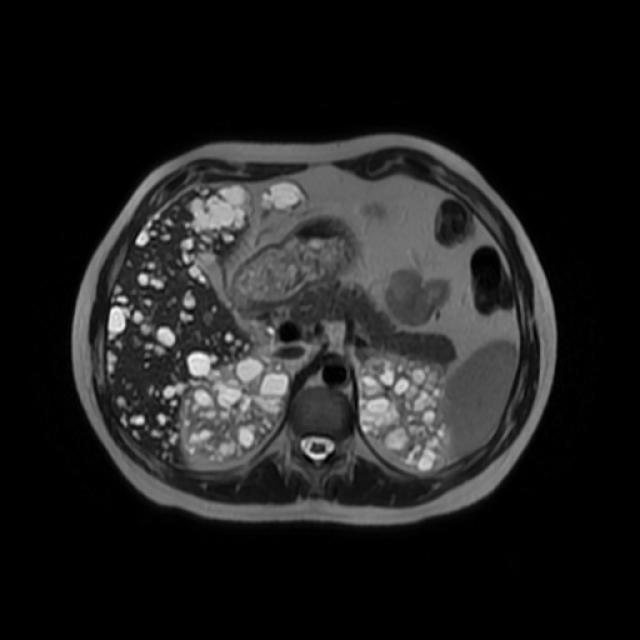sag: (177, 354, 291, 466)
sol: (358, 347, 453, 473)
